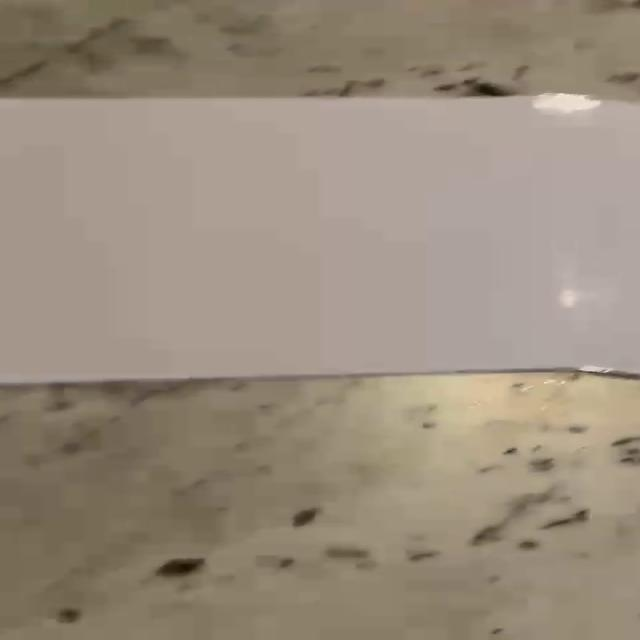road: (5, 94, 640, 382)
